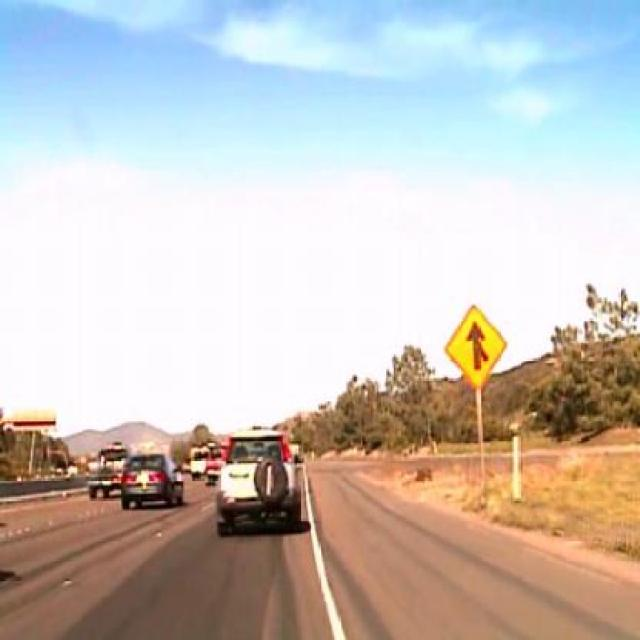merge: (444, 303, 508, 390)
